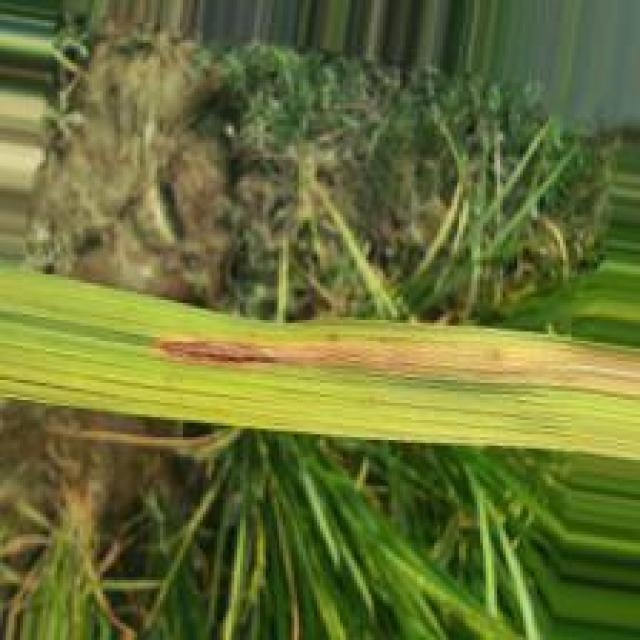Rice Tungro: (145, 333, 447, 376)
